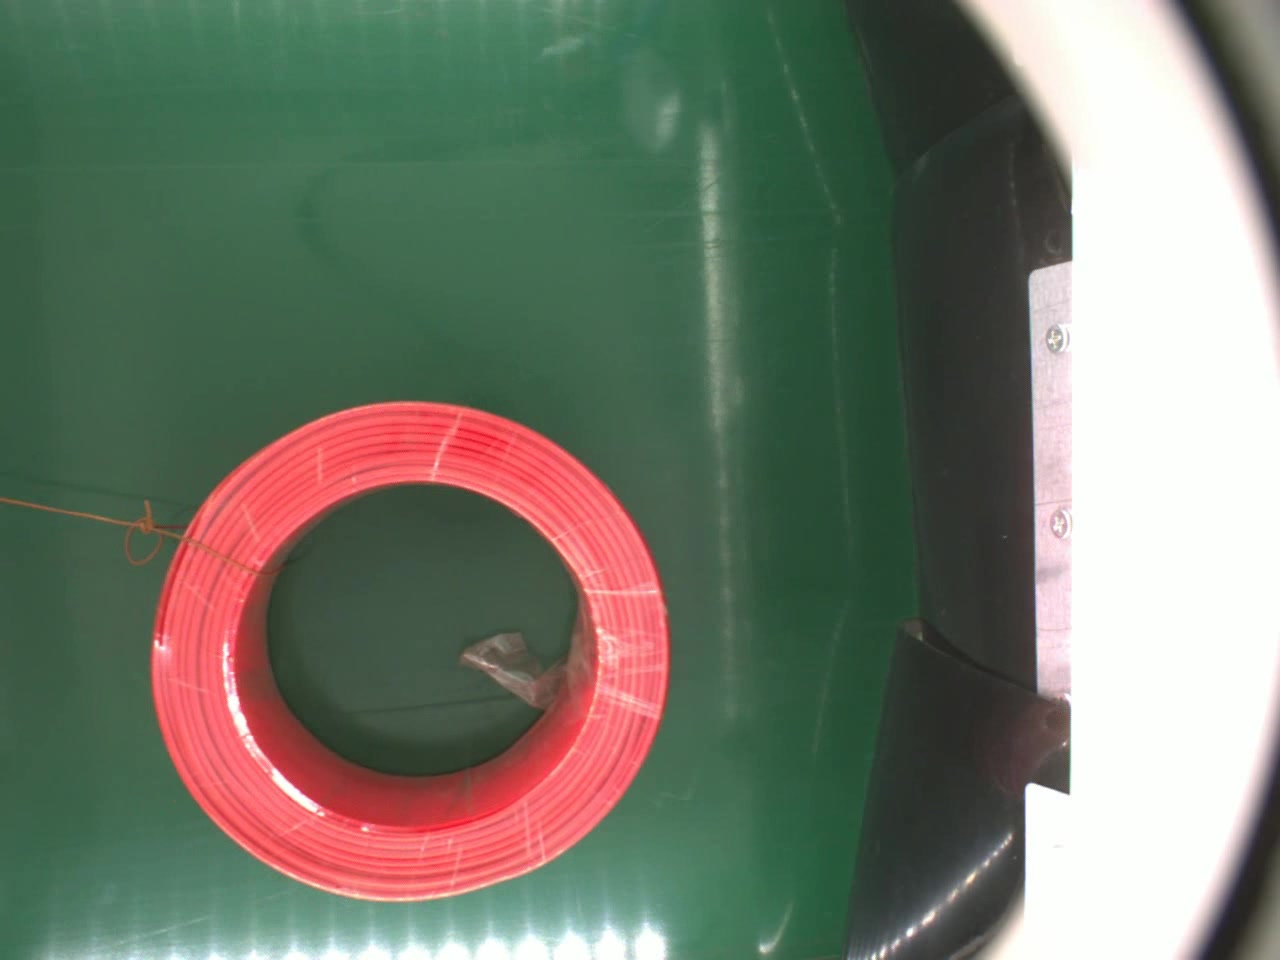red: (146, 397, 672, 904)
